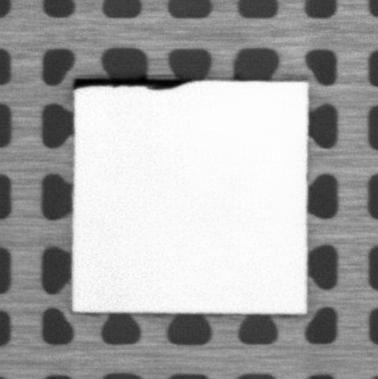DIE_BROKEN: (73, 75, 186, 92)
